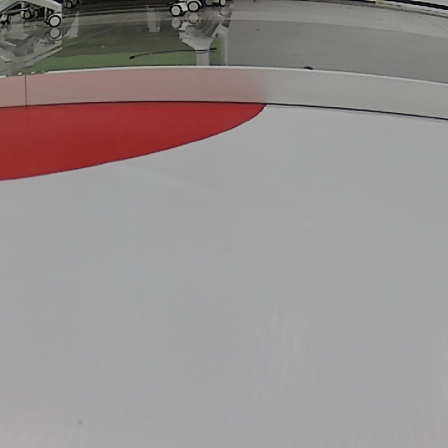red_base: (3, 98, 269, 184)
